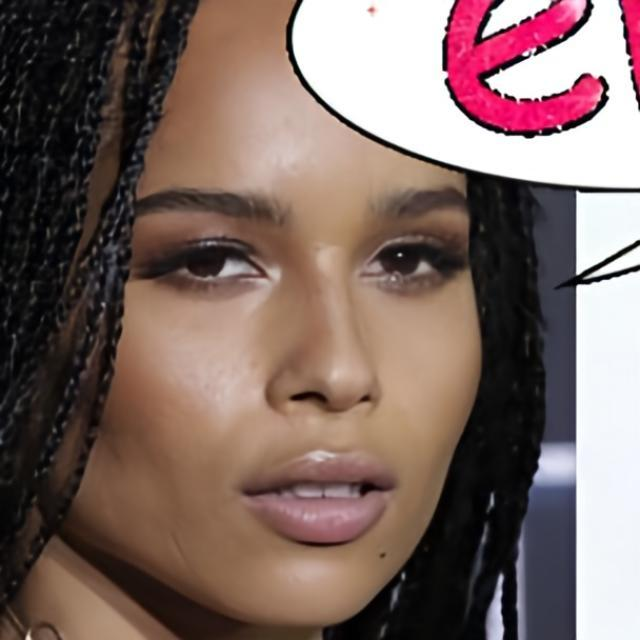neutral: (36, 0, 482, 631)
